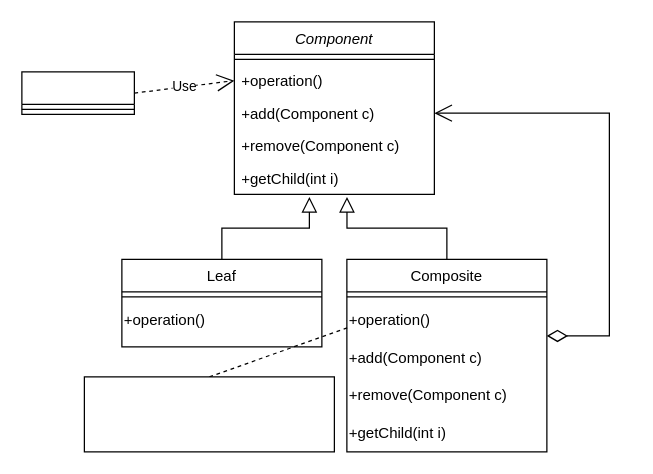
The diagram is 653 pixels wide and 474 high, and some of its shapes have lost their labels. The shapes that lost their labels are listed below. From the top down, each one's centre as x and y in pixels, then its label:
At (x=77, y=92): "Client".
At (x=208, y=414): "for(Component child:children) { child.operation(); }".
